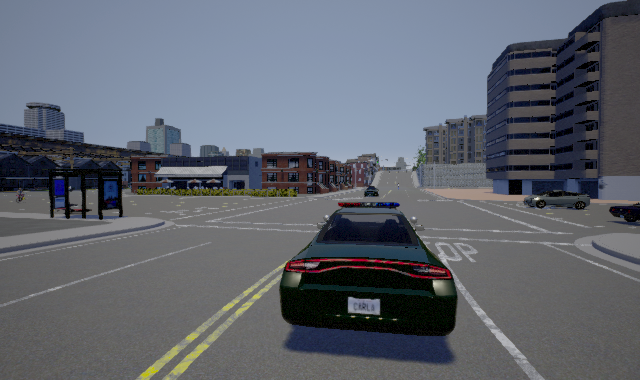vehicle: (279, 202, 458, 336), (523, 190, 590, 210), (609, 202, 640, 222), (361, 184, 383, 199)
